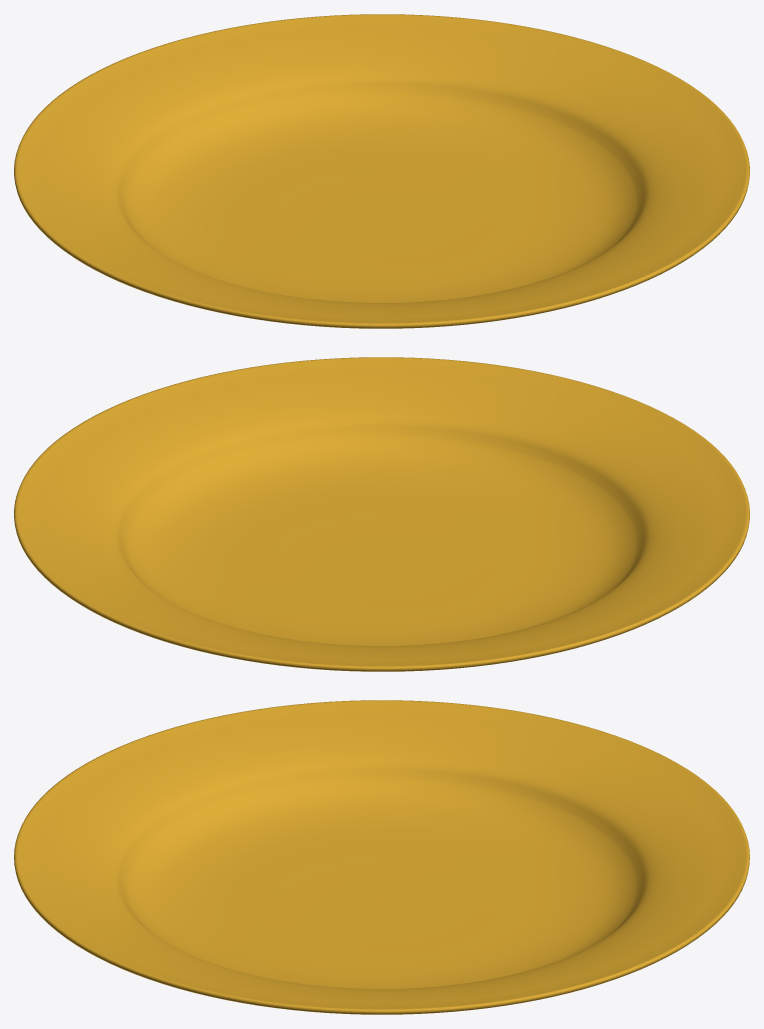
The model's file is mustard-plate.glb.
3 views of the same model, one above another, from view 1: azimuth 30°, elevation 25°; view 2: azimuth 150°, elevation 25°; view 3: azimuth 270°, elevation 25° (orthographic).
Visible parts, largest first — view 1: mustard-plate; view 2: mustard-plate; view 3: mustard-plate.
Part boxes in pixels (bbox=[...]): mustard-plate: bbox=[14, 14, 749, 328]; mustard-plate: bbox=[14, 357, 749, 671]; mustard-plate: bbox=[14, 700, 749, 1014].
Size of the model in its own units: 0.2203 by 0.0238 by 0.2203.
1 material, 1 textured.
